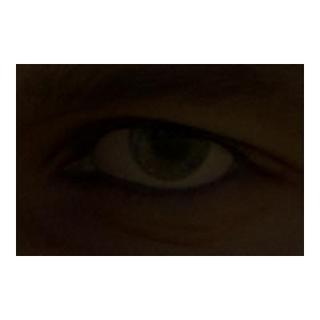pupil: (153, 120, 190, 157)
